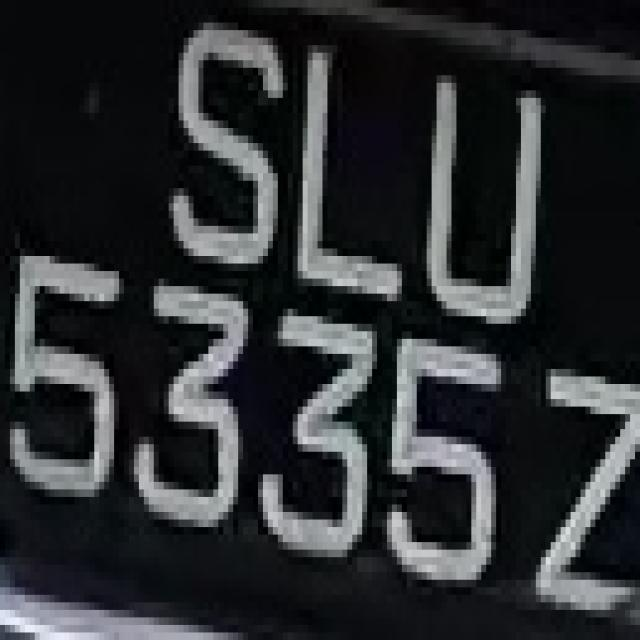3: (119, 249, 253, 557), (268, 271, 372, 565)
5: (387, 316, 506, 602), (20, 203, 129, 512)
L: (293, 23, 392, 316)
S: (149, 8, 283, 264)
U: (397, 53, 551, 346)
Z: (531, 316, 640, 640)
